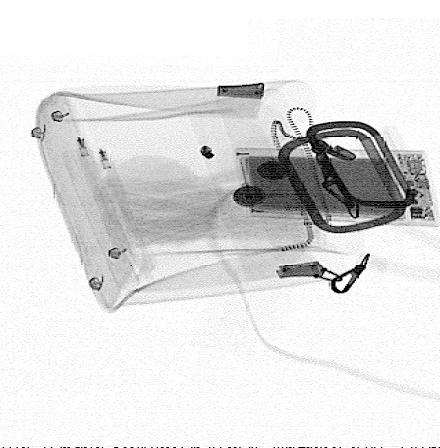Powerbank: (232, 148, 439, 226)
